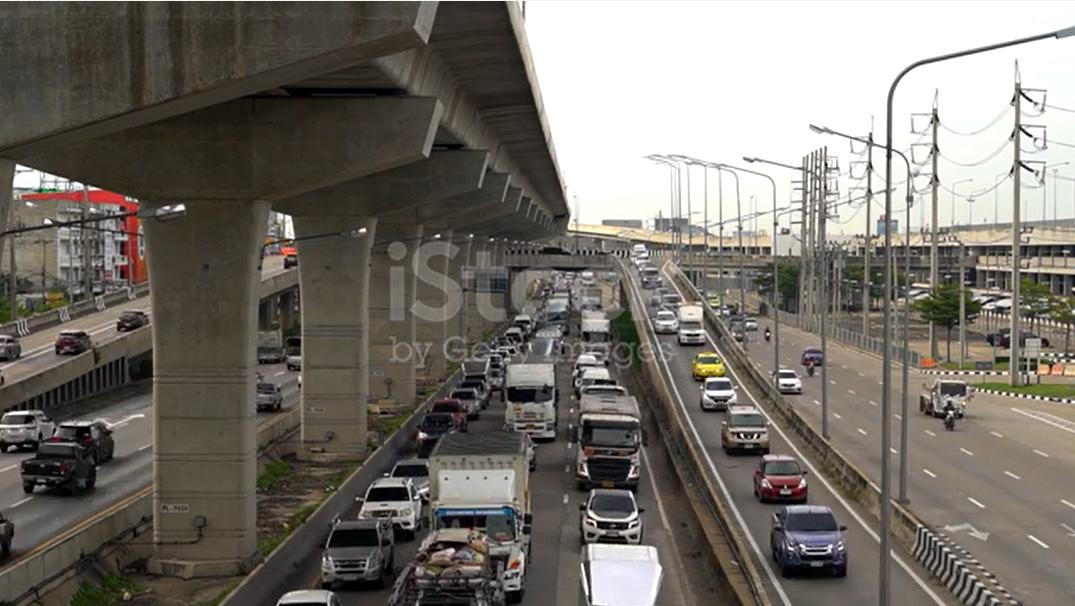car: (752, 485, 862, 601), (9, 429, 130, 512), (564, 465, 663, 562), (312, 499, 406, 598), (703, 402, 780, 454), (353, 469, 416, 532), (0, 395, 66, 454), (52, 413, 120, 466), (748, 443, 804, 502), (382, 445, 439, 499), (758, 359, 819, 407), (699, 374, 742, 416), (643, 307, 684, 341), (687, 349, 722, 386)
motorcycle: (930, 381, 969, 448), (790, 347, 827, 387)
truck: (408, 425, 550, 605), (564, 389, 652, 508), (489, 349, 564, 454), (910, 362, 980, 426), (675, 299, 706, 352)
